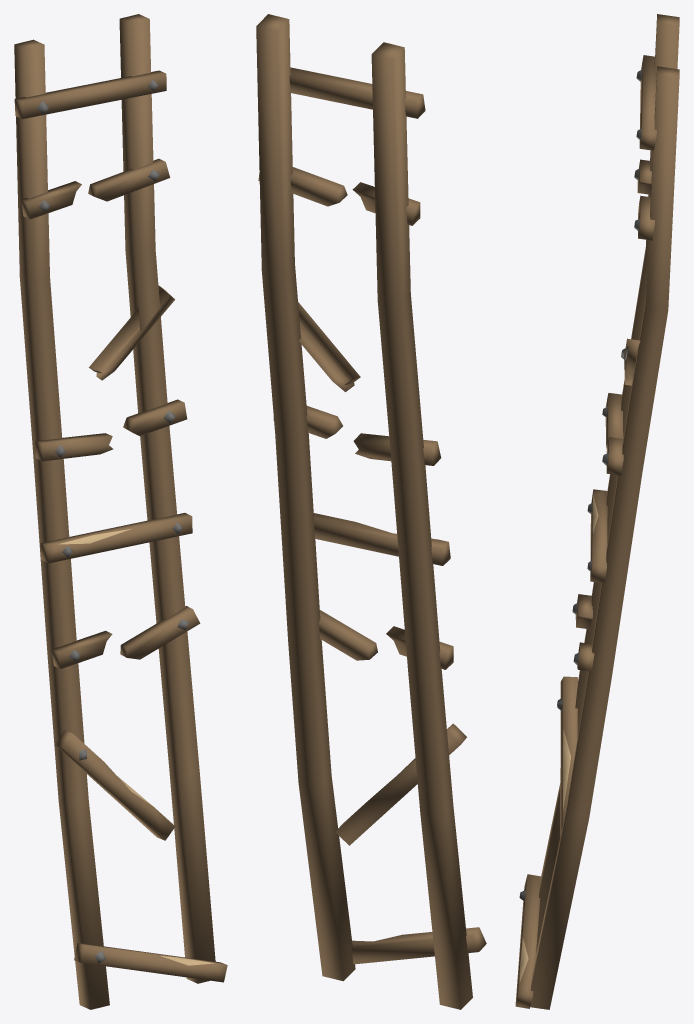
File: rpgpp_av_ladder_tall_01a.gltf
3 renders of one model, left to right at view 1: azimuth 30°, elevation 25°; view 2: azimuth 150°, elevation 25°; view 3: azimuth 270°, elevation 25°, orthographic. The views are drawn at different scales.
Visible parts, largest first — view 1: rpgpp_av_ladder_tall_01a; view 2: rpgpp_av_ladder_tall_01a; view 3: rpgpp_av_ladder_tall_01a.
Part boxes in pixels (<box>): rpgpp_av_ladder_tall_01a: <box>14,14,227,1009</box>; rpgpp_av_ladder_tall_01a: <box>256,14,486,1009</box>; rpgpp_av_ladder_tall_01a: <box>515,14,679,1009</box>.
Size of the model in its own units: 0.00692 by 0.0409 by 0.00652.
Materials: 1 (1 with a texture image).
